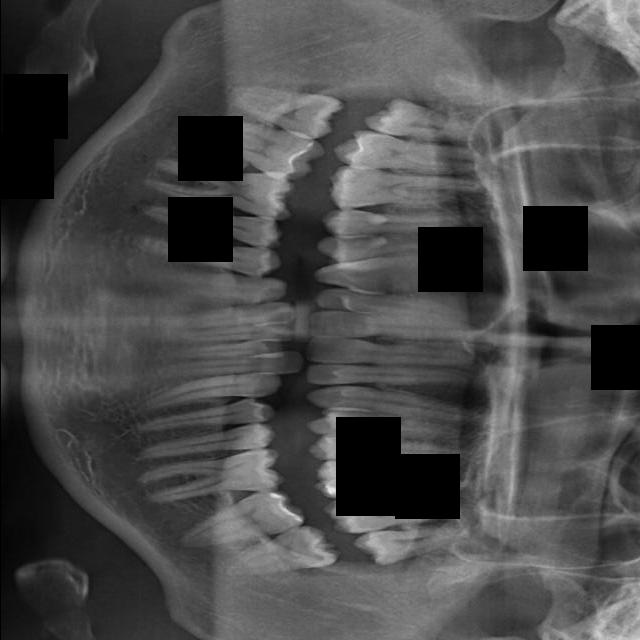3M ESPE Implant: (363, 96, 477, 142)
AGS Medikal Implant: (169, 483, 307, 554)
AMerOss Implant: (135, 446, 286, 508)
Amalgam filling: (331, 126, 487, 182)
Anthogyr Implant: (130, 420, 277, 466)
Bicon Implant: (131, 393, 278, 439)
BioHorizons Implant: (130, 366, 284, 417)
BioLife Implant: (156, 349, 306, 389)
Biomet 3i Implant: (176, 339, 286, 361)
Blue Sky Bio Implant: (170, 320, 295, 344)
Camlog Implant: (163, 299, 297, 333)
Caries: (305, 364, 472, 387)
Composite filling: (143, 264, 289, 310)
Cowellmedi Implant: (127, 232, 284, 279)
Crown: (133, 194, 288, 252)
DENTSPLY Implant: (327, 165, 484, 208)
Dentatus Implant: (142, 146, 300, 224)
Dentis Implant: (179, 105, 329, 187)
Dentium Implant: (224, 77, 346, 142)
Euroteknika Implant: (319, 208, 472, 234)
Filling: (314, 220, 466, 265)
Frontier Implant: (309, 251, 476, 298)
Hiossen Implant: (303, 380, 500, 428)
Implant: (306, 310, 486, 342)
Implant Direct: (312, 285, 477, 324)
Keystone Dental Implant: (304, 337, 478, 367)
MIS Implant: (304, 409, 472, 446)
Mandible: (307, 435, 474, 459)
Maxilla: (312, 454, 474, 499)
Megagen Implant: (321, 494, 463, 534)
Neodent Implant: (350, 513, 476, 571)
Neoss Implant: (215, 521, 342, 581)
